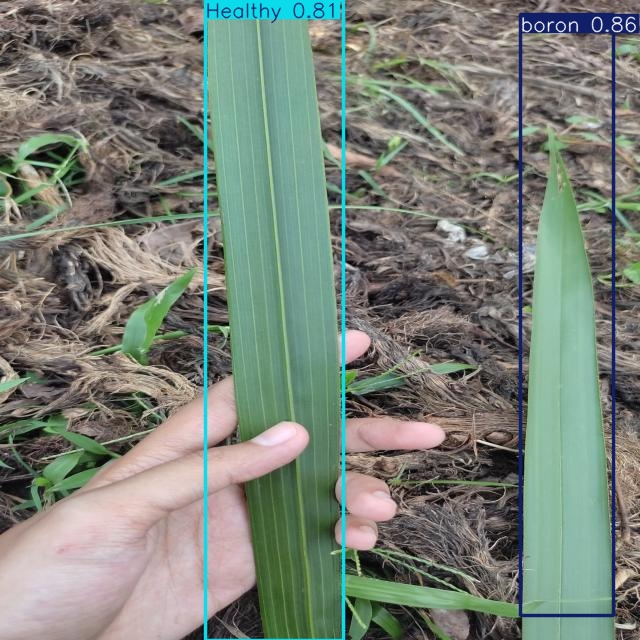Healthy: (205, 0, 343, 640)
nitrogen: (520, 15, 614, 615)
